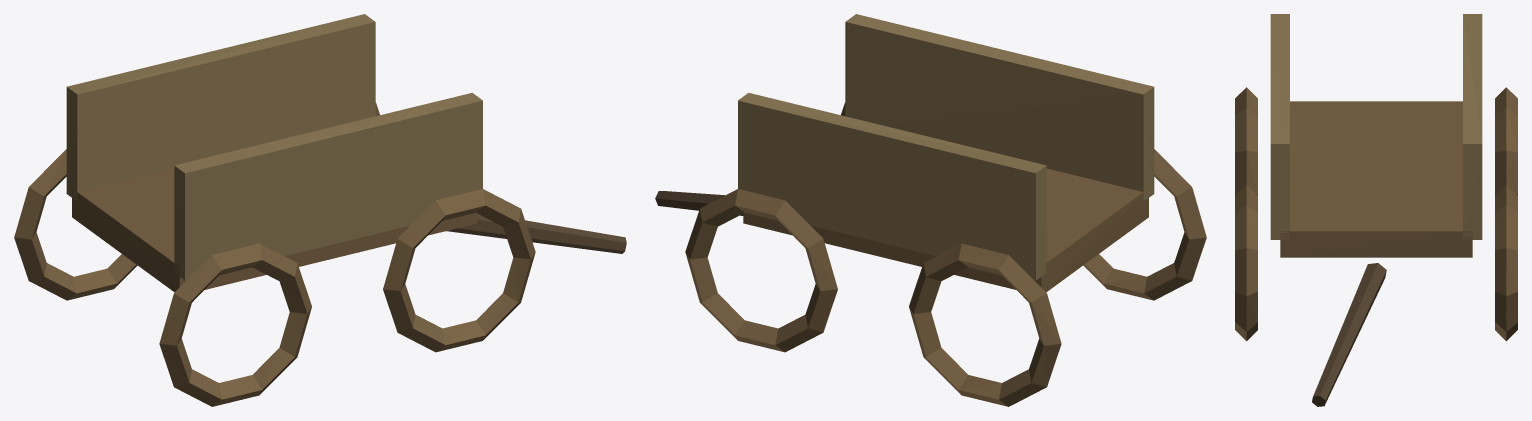
The model's file is broken_wagon.glb.
3 renders of one model, left to right at view 1: azimuth 30°, elevation 25°; view 2: azimuth 150°, elevation 25°; view 3: azimuth 270°, elevation 25°, orthographic. The views are drawn at different scales.
Parts seen in each view (by area): view 1: world-scenery/broken_wagon; view 2: world-scenery/broken_wagon; view 3: world-scenery/broken_wagon.
Boxes of the visible parts, box(x1,y1,x2,y2) form: world-scenery/broken_wagon: box(14, 14, 626, 406); world-scenery/broken_wagon: box(655, 14, 1206, 406); world-scenery/broken_wagon: box(1235, 14, 1517, 406).
Size of the model in its own units: 2.72 by 1.16 by 1.47.
